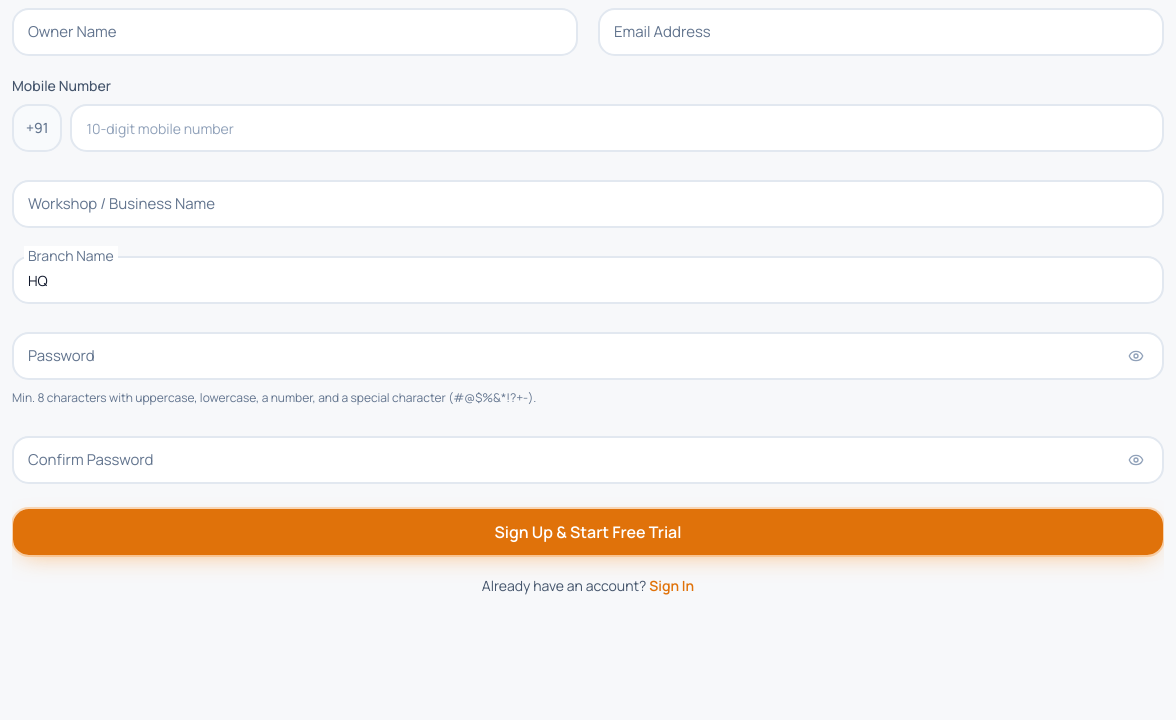
it: signup form › validates password confirmation and shows requirements
Type "Prime Auto" into the field labelled "Workshop / Business Name".
click(588, 204); type("Prime Auto")  # box [12,180,1164,228]
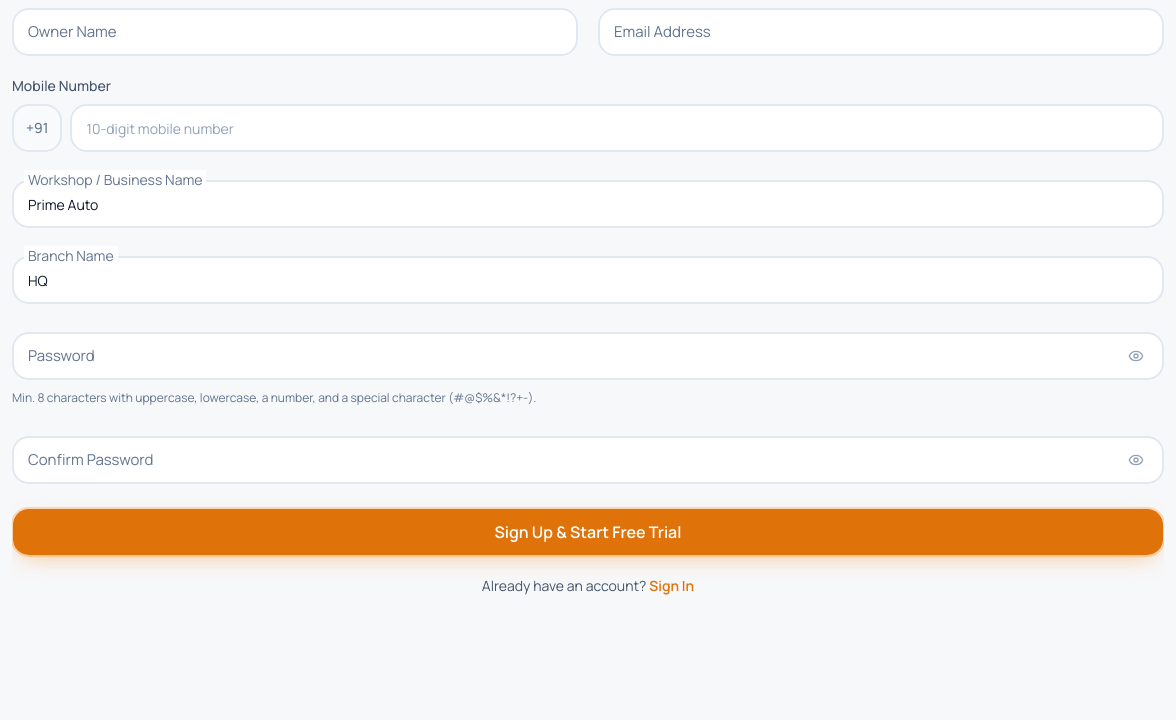
Type "Aman" into the field labelled "Owner Name".
click(295, 32); type("Aman")  # box [12,8,578,56]
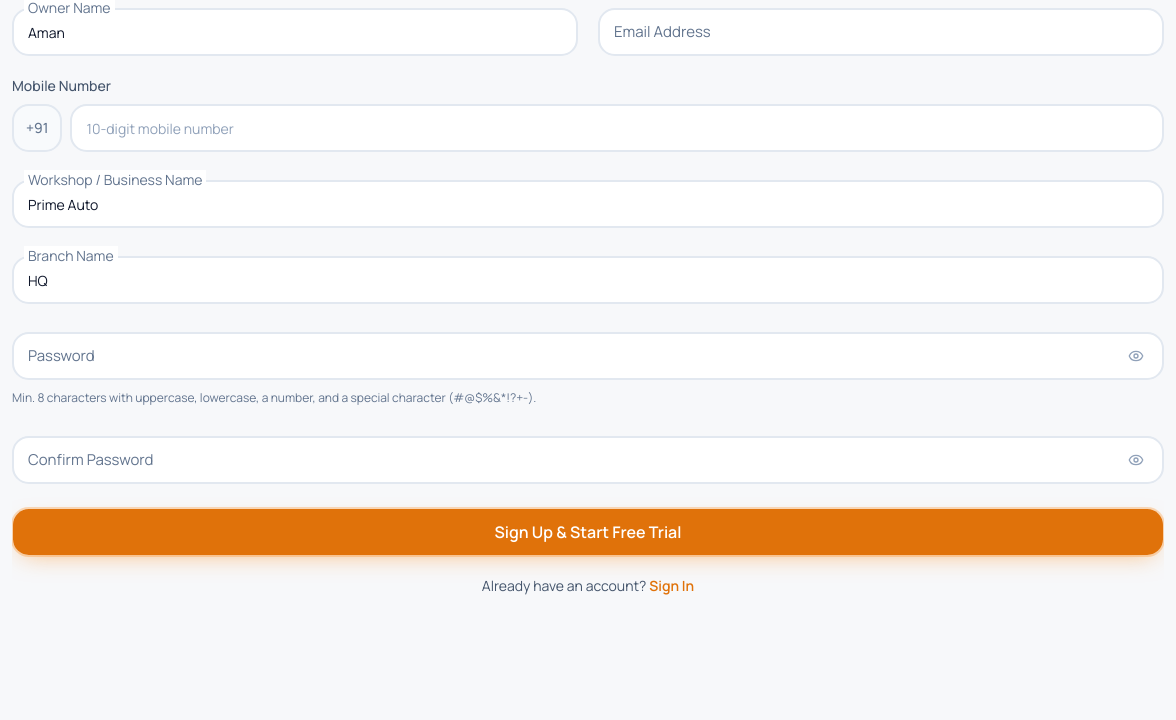
Type "owner@example.com" into the field labelled "Email Address".
click(881, 32); type("owner@example.com")  # box [598,8,1164,56]
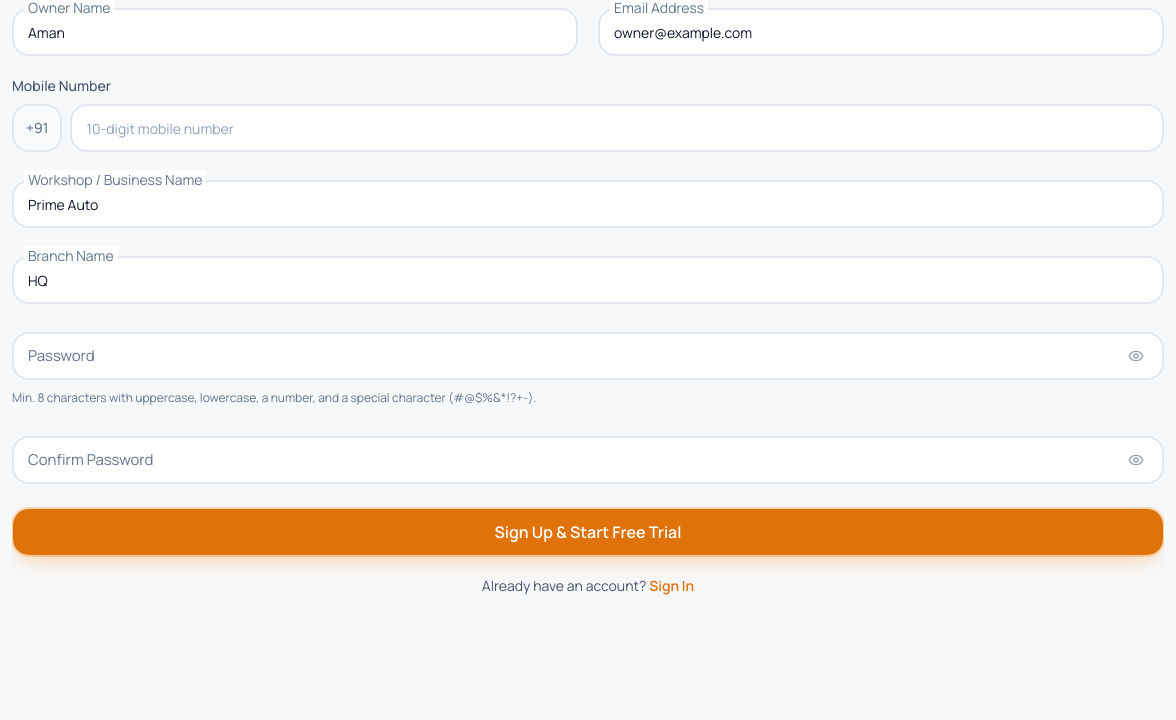
Type "9999999999" into the field labelled "Mobile Number".
click(617, 128); type("9999999999")  # box [70,104,1164,152]
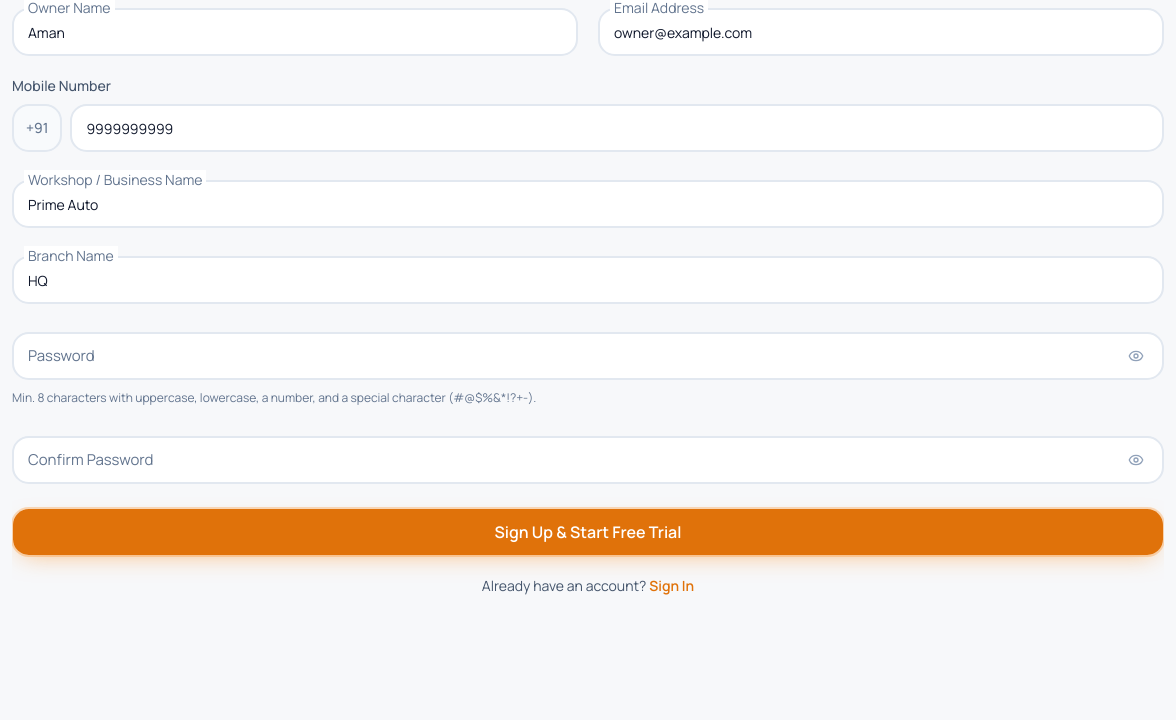
Type "abcd1234" into the password field labelled "Password".
click(588, 356); type("abcd1234")  # box [12,332,1164,380]
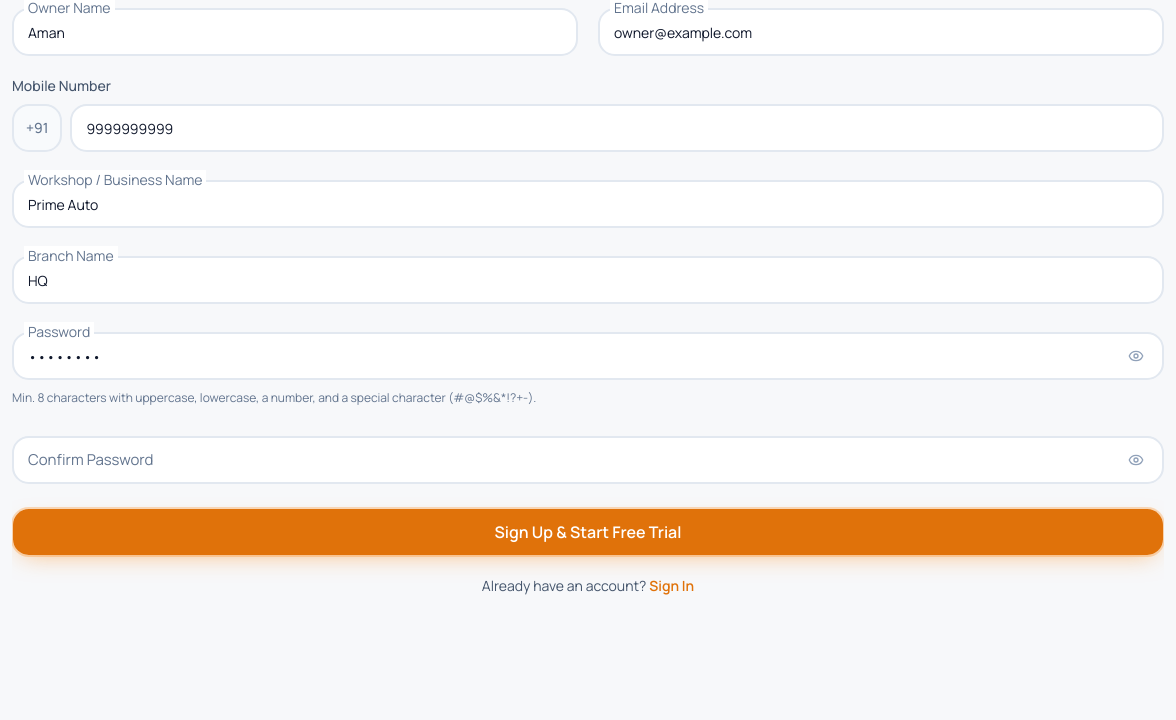
Type "abcd9999" into the password field labelled "Confirm Password".
click(588, 460); type("abcd9999")  # box [12,436,1164,484]
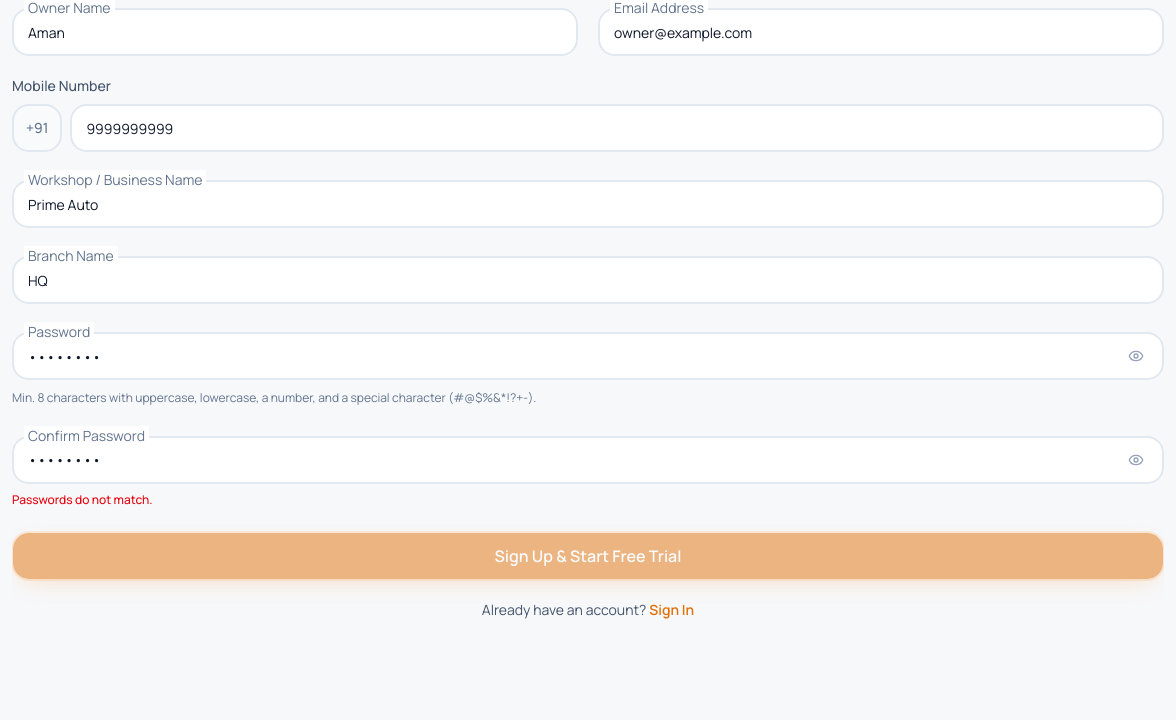
Check: the text "Min. 8 characters" is shown, box [12,389,536,406]
Check: the text "Passwords do not match." is shown, box [12,490,153,508]
